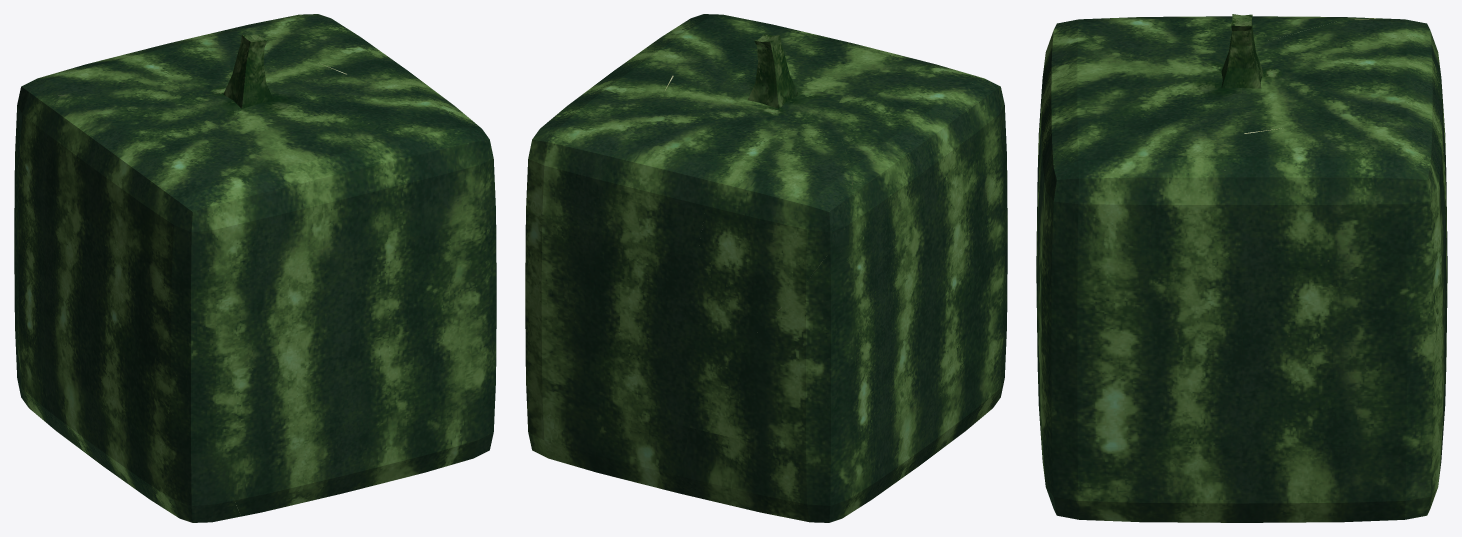
File: SqWatermelon.fbx
The picture shows the model from 3 angles, left to right: view 1: azimuth 30°, elevation 25°; view 2: azimuth 150°, elevation 25°; view 3: azimuth 270°, elevation 25°; orthographic projection. The views are drawn at different scales.
Visible parts, largest first — view 1: SqWatermelon, SqWatermelon_cell.003, SqWatermelon_cell.001, SqWatermelon_cell.002, SqWatermelon_tail; view 2: SqWatermelon, SqWatermelon_cell.003, SqWatermelon_cell.001, SqWatermelon_cell.002, SqWatermelon_tail, SqWatermelon_cell.004, SqWatermelon_cell; view 3: SqWatermelon, SqWatermelon_cell.001, SqWatermelon_cell.002, SqWatermelon_tail, SqWatermelon_cell.003, SqWatermelon_cell.004.
Boxes of the visible parts, box(x1,y1,x2,y2) form: SqWatermelon: box(14, 14, 496, 522); SqWatermelon_cell.003: box(14, 98, 240, 522); SqWatermelon_cell.001: box(134, 33, 346, 126); SqWatermelon_cell.002: box(198, 103, 489, 515); SqWatermelon_tail: box(223, 34, 273, 108); SqWatermelon: box(525, 14, 1006, 522); SqWatermelon_cell.003: box(680, 87, 1007, 522); SqWatermelon_cell.001: box(641, 75, 843, 274); SqWatermelon_cell.002: box(676, 20, 972, 83); SqWatermelon_tail: box(747, 34, 798, 108); SqWatermelon_cell.004: box(528, 128, 638, 442); SqWatermelon_cell: box(806, 134, 848, 273); SqWatermelon: box(1036, 16, 1447, 522); SqWatermelon_cell.001: box(1193, 47, 1446, 174); SqWatermelon_cell.002: box(1045, 21, 1202, 520); SqWatermelon_tail: box(1221, 14, 1263, 88); SqWatermelon_cell.003: box(1138, 16, 1382, 44); SqWatermelon_cell.004: box(1405, 138, 1441, 519).
Bounding box in the file's own units: 14.82 × 17.37 × 14.82.
